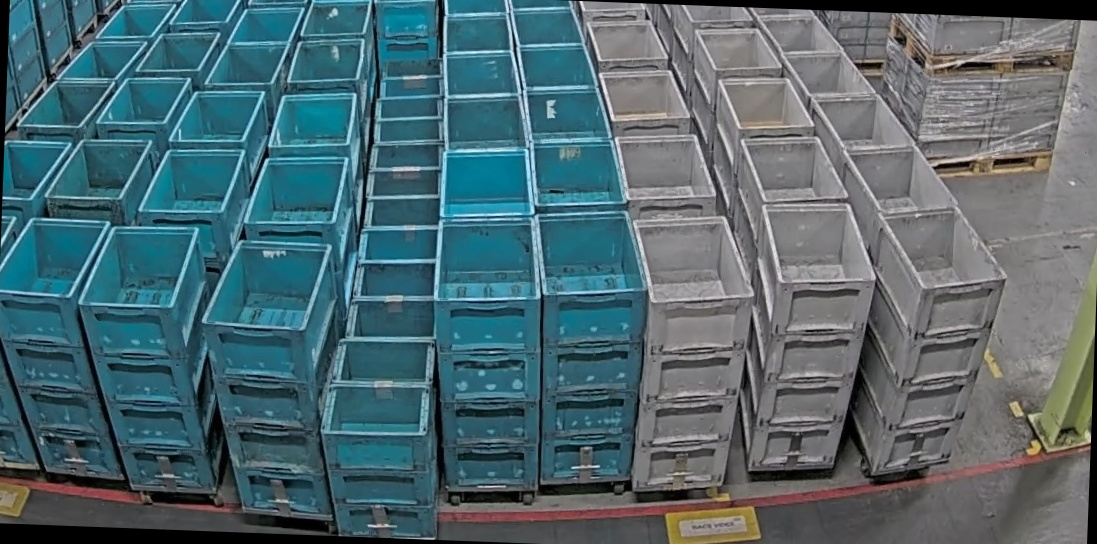4G: (850, 201, 1012, 480), (735, 201, 878, 474), (623, 211, 758, 493)
B4: (72, 223, 233, 489), (193, 238, 340, 515), (0, 215, 136, 480), (527, 207, 652, 488), (427, 214, 545, 494)
B8: (316, 337, 443, 538)
